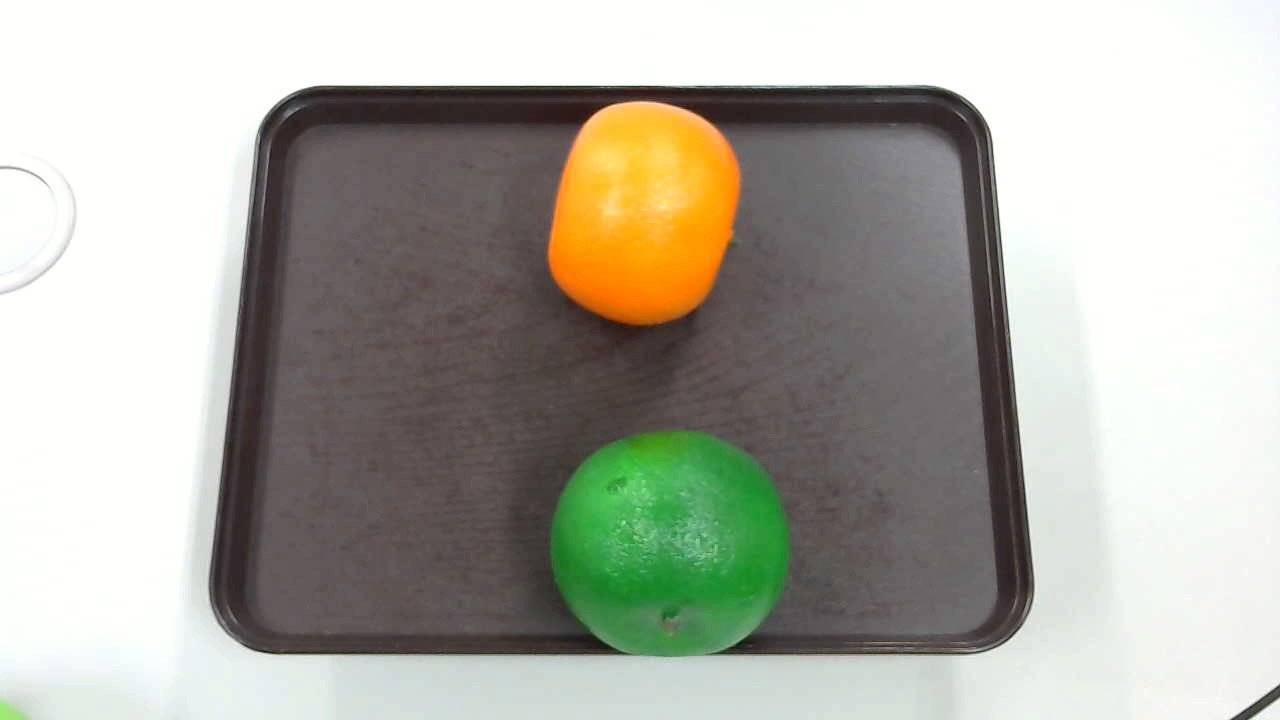green orange: (549, 428, 795, 662)
orange: (544, 97, 740, 337)
